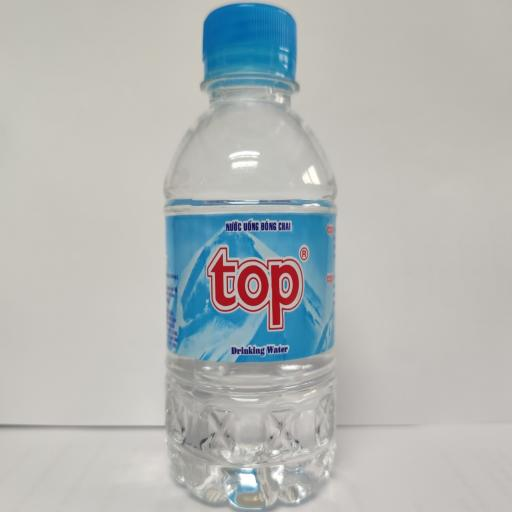bottle: (165, 3, 339, 508)
